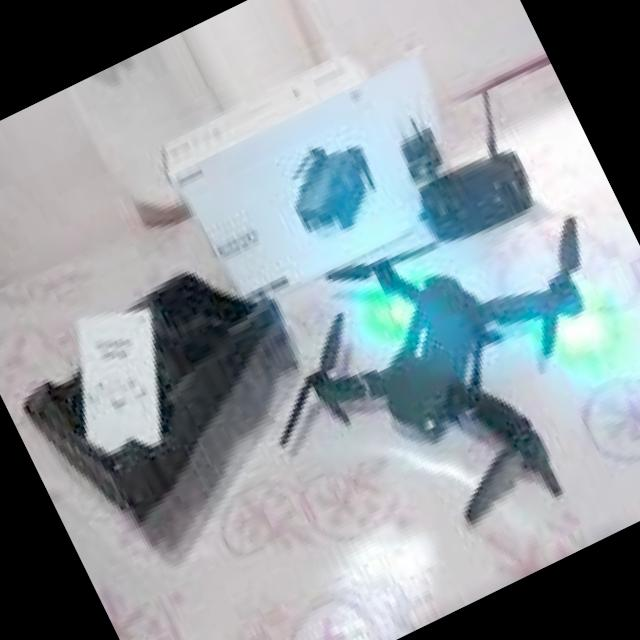drone: (206, 155, 640, 606)
